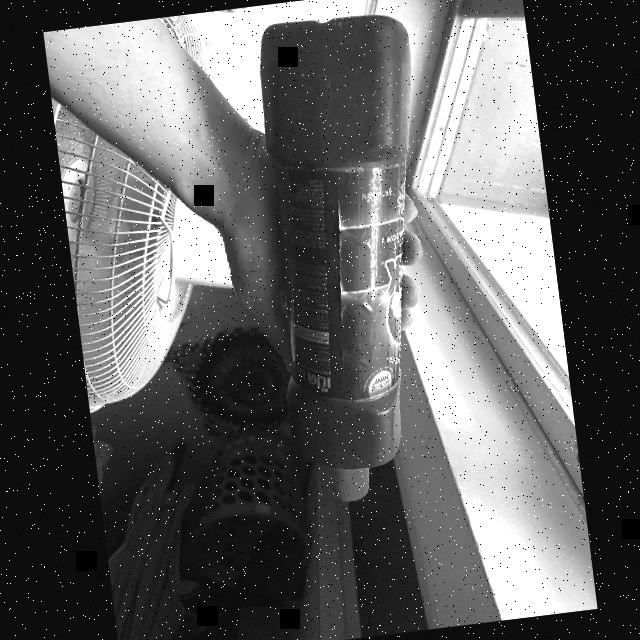toilet_cleaner: (235, 0, 472, 515)
